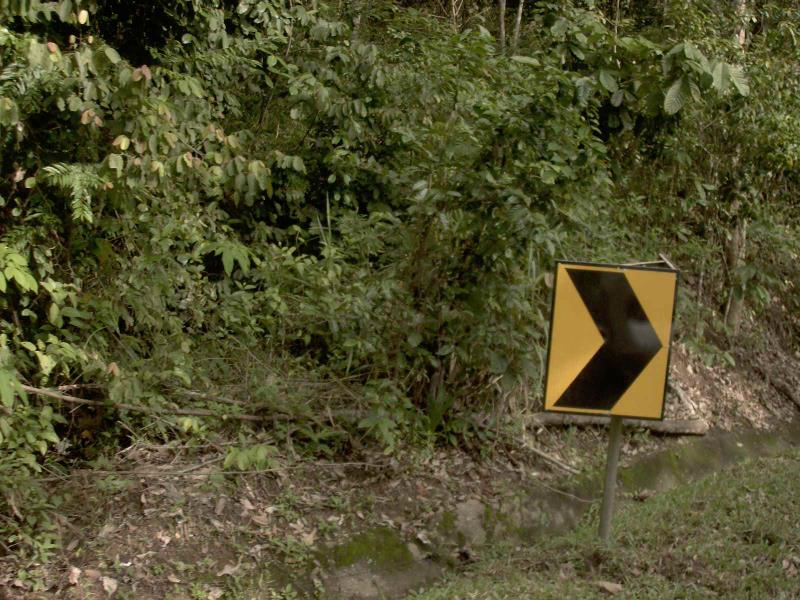traffic_sign: (530, 245, 695, 436)
